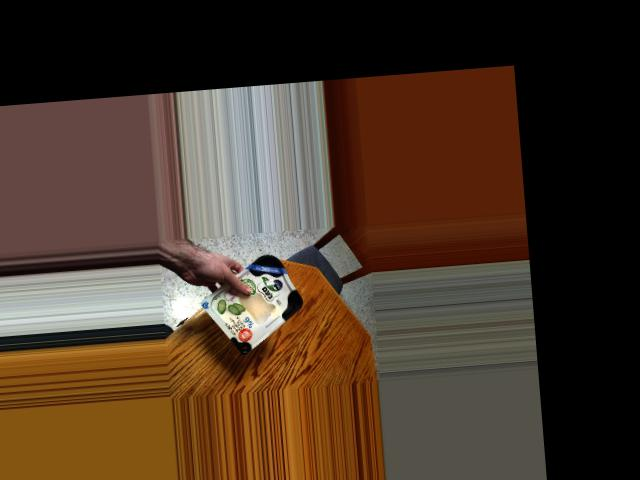cheese: (213, 246, 301, 350)
